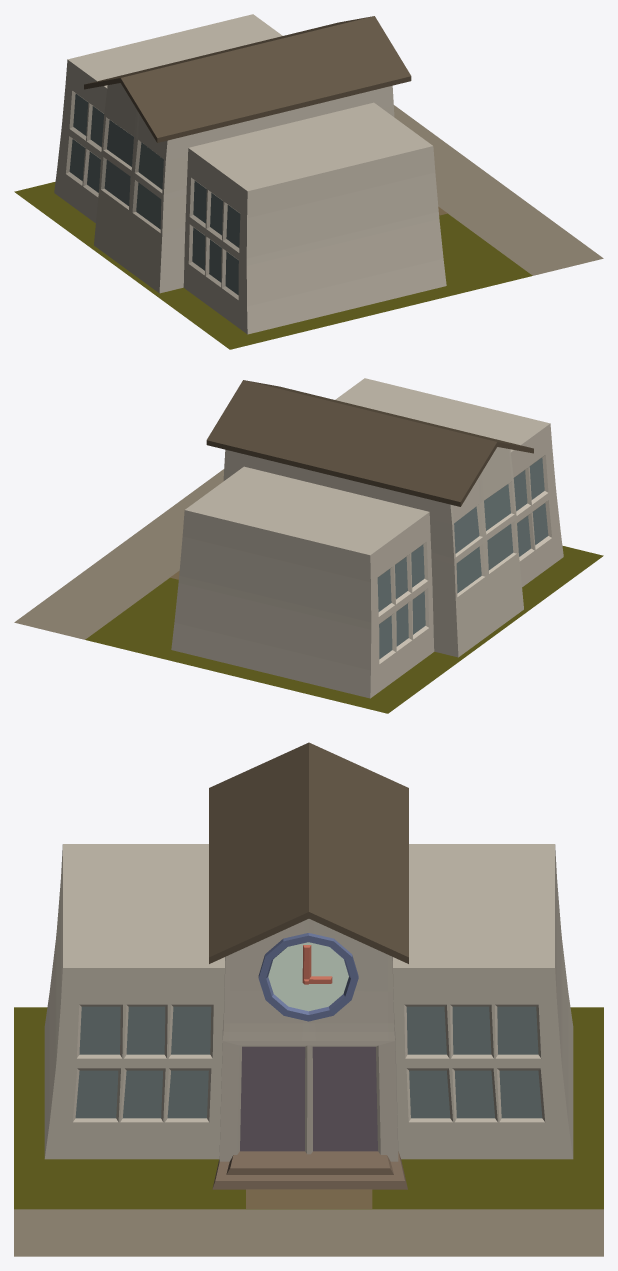
File: Escola.fbx
3 renders of one model, top to bottom at view 1: azimuth 30°, elevation 25°; view 2: azimuth 150°, elevation 25°; view 3: azimuth 270°, elevation 25°, orthographic. The views are drawn at different scales.
Parts seen in each view (by area): view 1: Escola; view 2: Escola; view 3: Escola.
Part boxes in pixels (bbox=[...]): Escola: bbox=[14, 14, 603, 349]; Escola: bbox=[14, 378, 603, 713]; Escola: bbox=[14, 742, 603, 1256].
Size of the model in its own units: 201 by 98.76 by 200.
